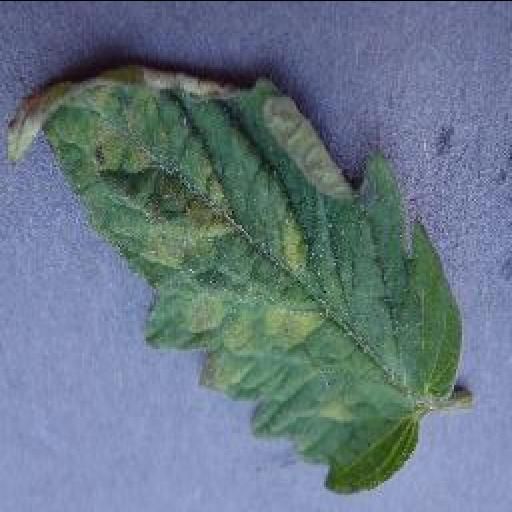disease_tomato: (6, 57, 462, 490)
